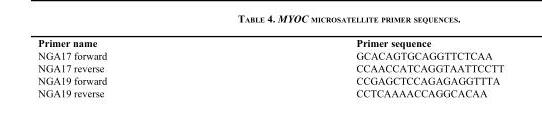table: (38, 36, 504, 98)
table column: (231, 36, 504, 98), (38, 36, 231, 98)
table column header: (38, 36, 504, 48)
table row: (38, 48, 504, 61), (38, 73, 504, 86), (38, 36, 504, 48), (38, 61, 504, 73), (38, 86, 504, 98)
